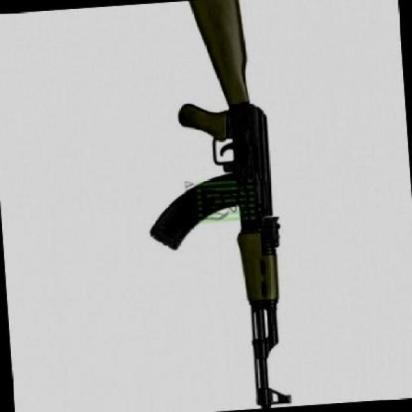Gun: (125, 0, 324, 412)
